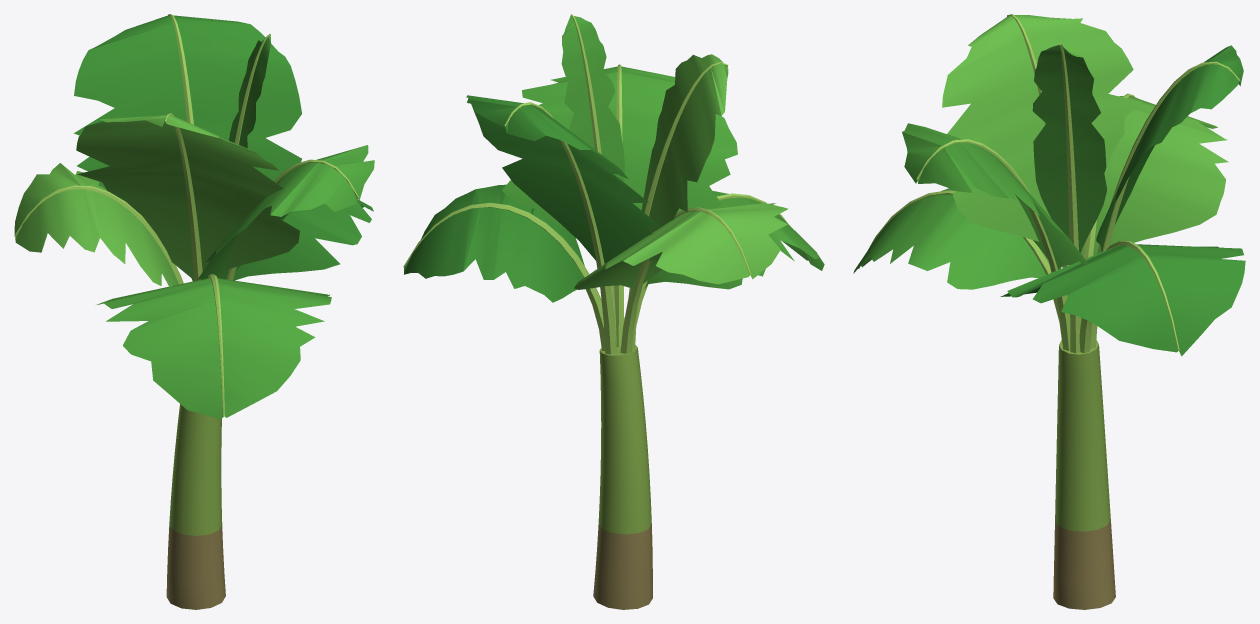
3 views of the same model, side by side, from view 1: azimuth 30°, elevation 25°; view 2: azimuth 150°, elevation 25°; view 3: azimuth 270°, elevation 25° (orthographic). The views are drawn at different scales.
Visible parts, largest first — view 1: body; view 2: body; view 3: body.
Boxes of the visible parts, x1=… form: body: x1=14, y1=14, x2=374, y2=609; body: x1=403, y1=14, x2=824, y2=609; body: x1=853, y1=14, x2=1245, y2=609.
Size of the model in its own units: 2.28 by 3.59 by 2.17.
1 material, 1 textured.
